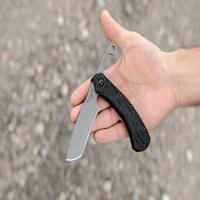knife: (62, 42, 160, 173)
